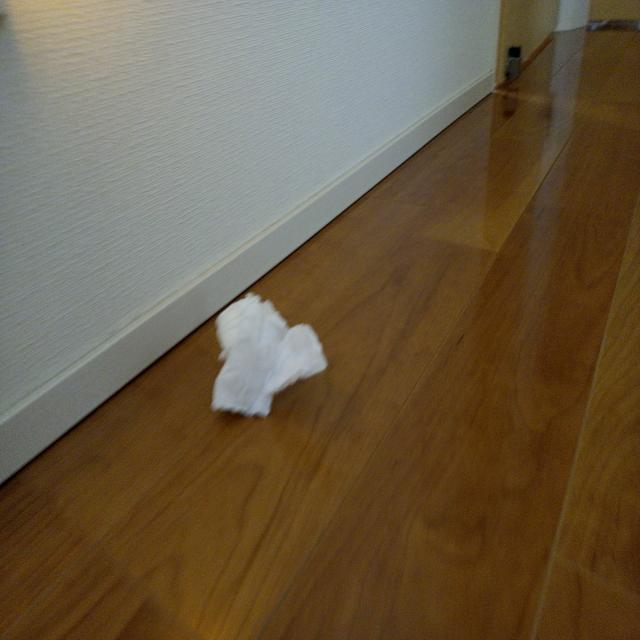Paper: (206, 281, 326, 443)
